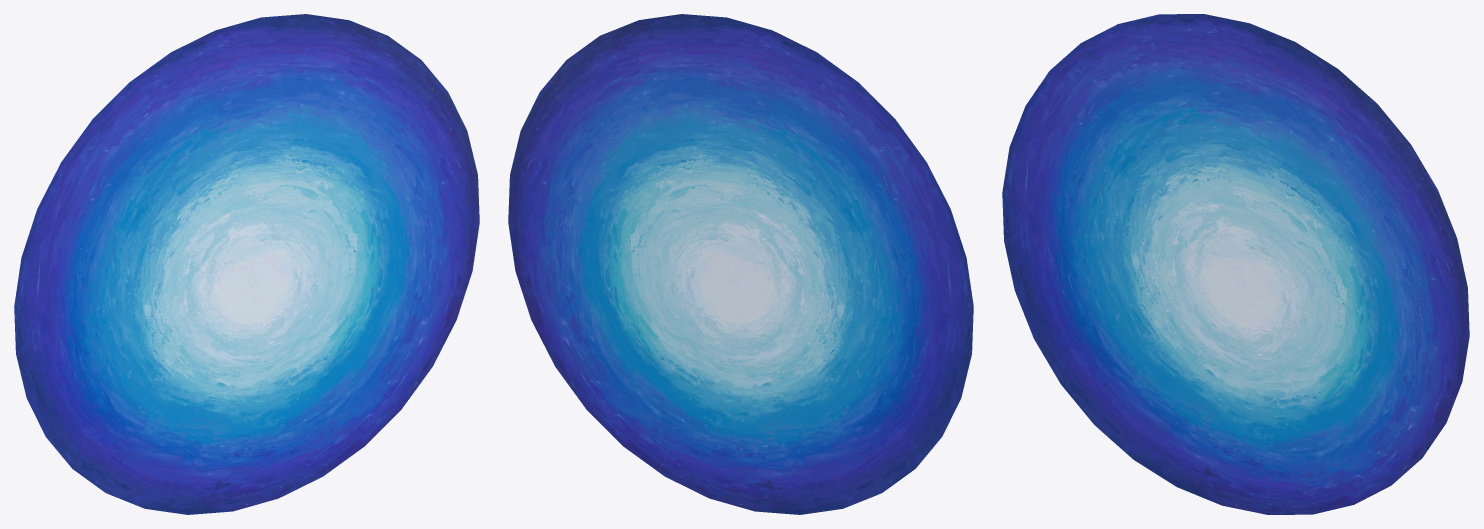
File: Abstract_AR_Art.glb
3 views of the same model, side by side, from view 1: azimuth 30°, elevation 25°; view 2: azimuth 150°, elevation 25°; view 3: azimuth 330°, elevation 25° (orthographic).
Parts seen in each view (by area): view 1: illusion_03; view 2: illusion_03; view 3: illusion_03.
Part boxes in pixels (x1,y1,x2,y2): illusion_03: [14, 14, 479, 514]; illusion_03: [508, 14, 973, 514]; illusion_03: [1002, 14, 1469, 514].
Size of the model in its own units: 4.38 by 4.38 by 0.00289.
3 materials, 3 textured.
